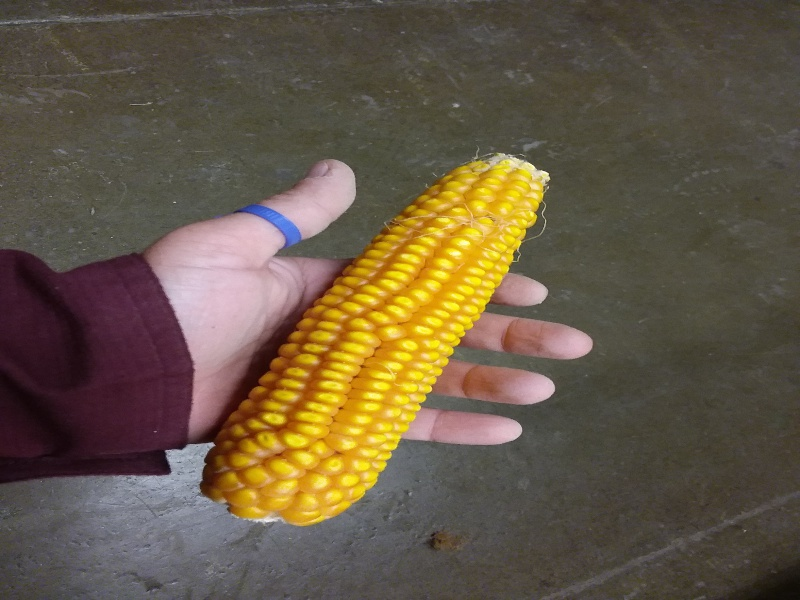band: (235, 203, 305, 246)
ear: (196, 147, 555, 529)
